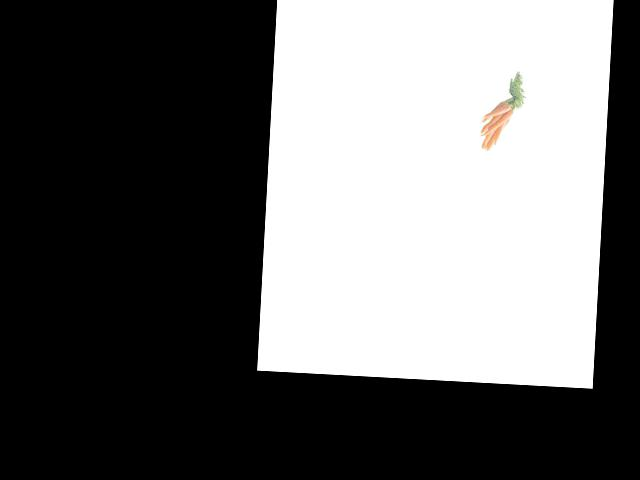carrot: (473, 99, 508, 117)
